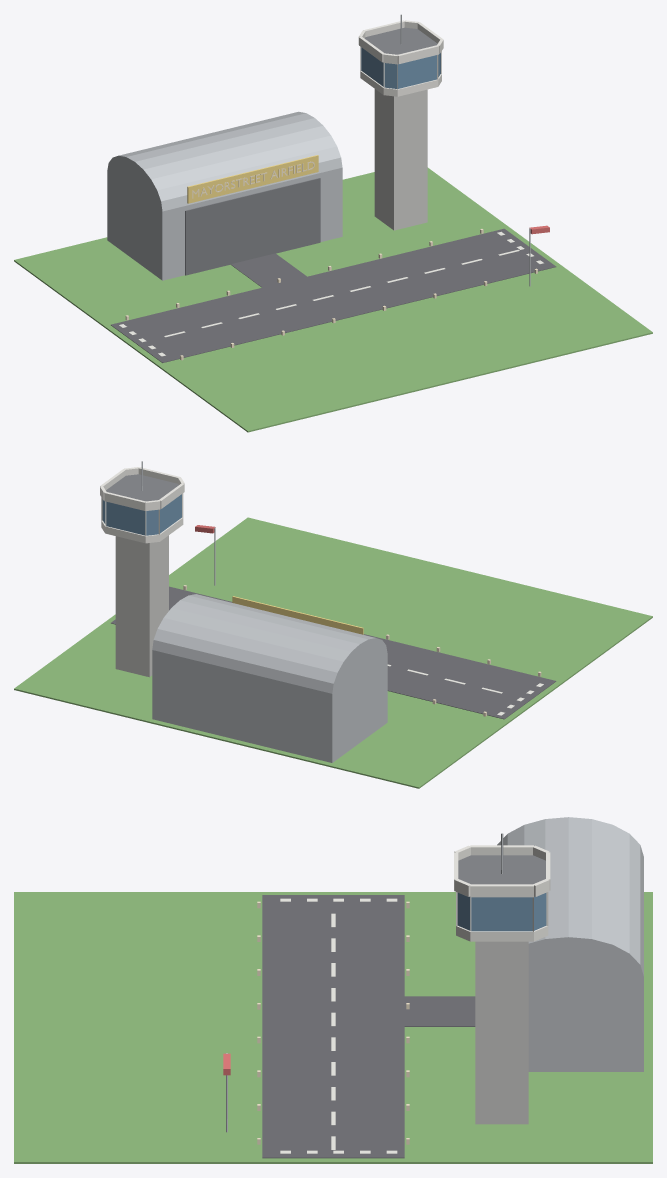
File: airfield.glb
3 renders of one model, top to bottom at view 1: azimuth 30°, elevation 25°; view 2: azimuth 150°, elevation 25°; view 3: azimuth 270°, elevation 25°, orthographic. The views are drawn at different scales.
Visible parts, largest first — view 1: airfield; view 2: airfield; view 3: airfield.
Boxes of the visible parts, x1,y1,x2,y2 form: airfield: [14, 14, 652, 432]; airfield: [14, 461, 652, 788]; airfield: [14, 817, 652, 1163].
Size of the model in its own units: 36 by 17.5 by 36.
